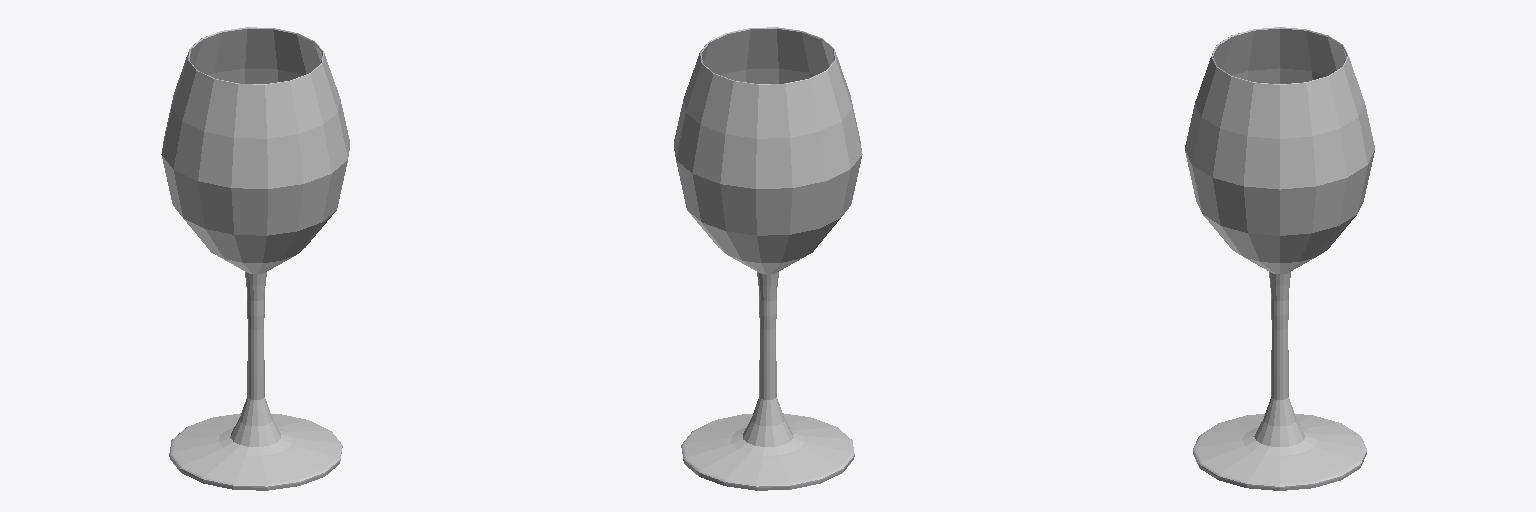
File: WineGlass.obj
3 renders of one model, left to right at view 1: azimuth 30°, elevation 25°; view 2: azimuth 150°, elevation 25°; view 3: azimuth 270°, elevation 25°, orthographic.
Parts seen in each view (by area): view 1: Glass; view 2: Glass; view 3: Glass.
Boxes of the visible parts, x1,y1,x2,y2 form: Glass: [161, 27, 349, 490]; Glass: [674, 27, 862, 490]; Glass: [1185, 27, 1374, 490].
Size of the model in its own units: 2.92 by 6.76 by 2.92.